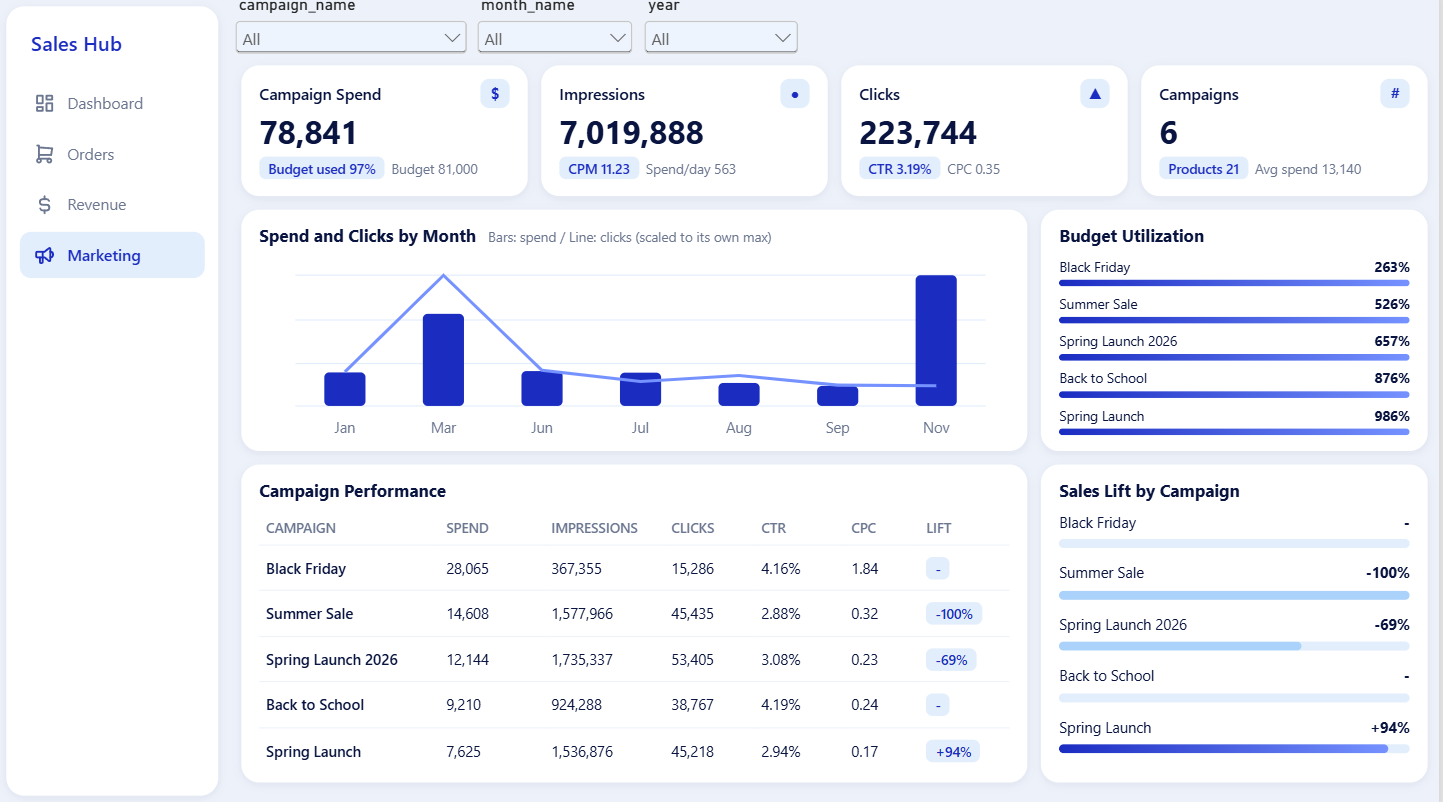

What the dashboard file says about the page in this screenshot:
{"tool":"powerbi","page":{"name":"Marketing","canvas":[1280,720],"ordinal":3},"visuals":[{"type":"htmlContent443BE3AD55E043BF878BED274D3A6855","fields":{"content":["dashboard.HTML Page 4"]},"box":[208,52,1072,668],"z":0},{"type":"htmlContent443BE3AD55E043BF878BED274D3A6855","fields":{"content":["dashboard.HTML Sidebar Marketing"]},"box":[0,0,208.1,720.1],"z":1000},{"type":"actionButton","box":[23.1,76.3,162.3,39.9],"z":2000},{"type":"actionButton","box":[23.1,122.4,162.3,39.9],"z":3000},{"type":"actionButton","box":[23.1,165.8,162.3,39.9],"z":4000},{"type":"slicer","fields":{"Values":["dim_campaign.name"]},"box":[208.1,0,215.3,59.7],"z":4001},{"type":"slicer","fields":{"Values":["dim_date.month_name"]},"box":[423.3,0,147.4,51.6],"z":4002},{"type":"slicer","fields":{"Values":["dim_date.year"]},"box":[570.8,0,145.6,51.6],"z":4003}]}

Visuals, with their boxes in screenshot pixels (x1, y1, x2, y2), scaled from the page's 1280x720 canvas onto the 1443x802 screenshot:
htmlContent443BE3AD55E043BF878BED274D3A6855 - dashboard.HTML Page 4: locate(234, 58, 1442, 801)
htmlContent443BE3AD55E043BF878BED274D3A6855 - dashboard.HTML Sidebar Marketing: locate(0, 0, 235, 801)
actionButton: locate(26, 85, 209, 129)
actionButton: locate(26, 136, 209, 181)
actionButton: locate(26, 185, 209, 229)
slicer - dim_campaign.name: locate(235, 0, 477, 66)
slicer - dim_date.month_name: locate(477, 0, 643, 57)
slicer - dim_date.year: locate(643, 0, 808, 57)
